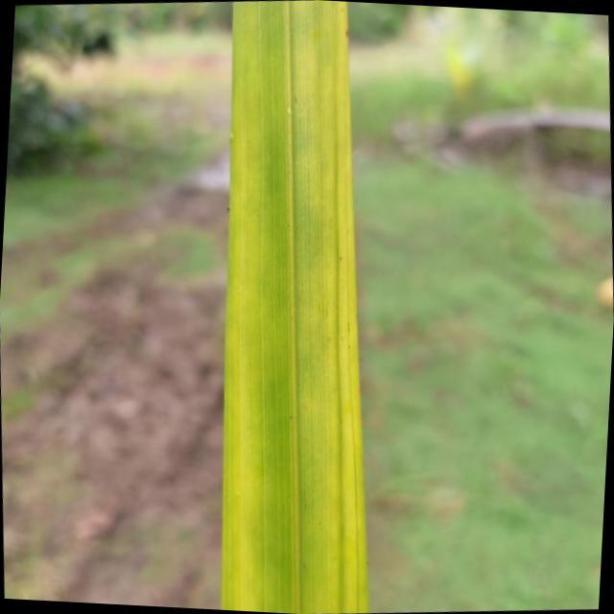nitrogen: (221, 0, 366, 614)
